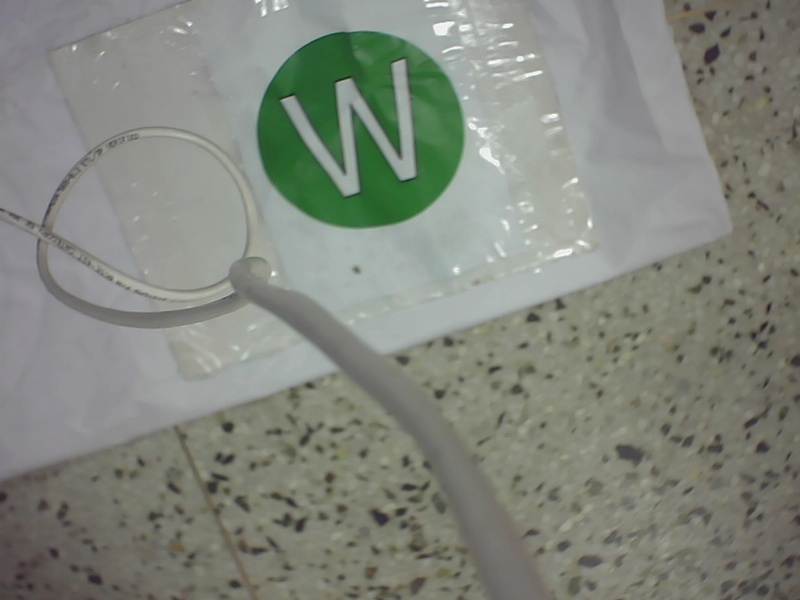areaB: (252, 34, 475, 230)
